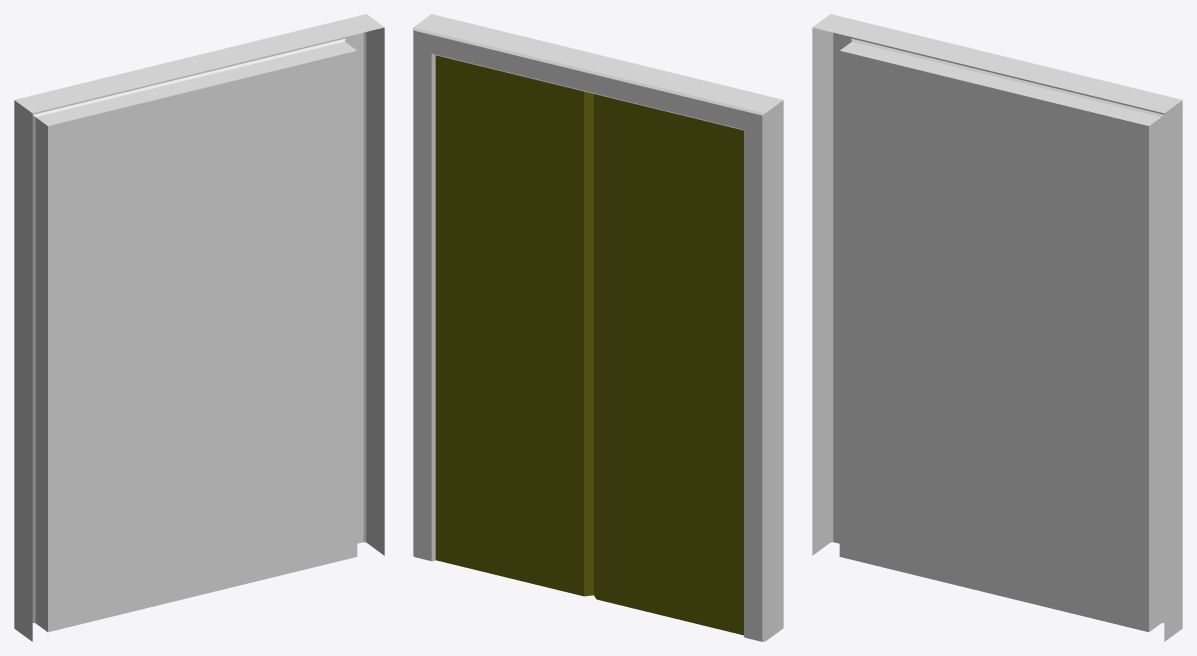
File: Larry_Map_Door_01.fbx
3 renders of one model, left to right at view 1: azimuth 30°, elevation 25°; view 2: azimuth 150°, elevation 25°; view 3: azimuth 330°, elevation 25°, orthographic.
Parts seen in each view (by area): view 1: Door_01; view 2: Door_01; view 3: Door_01.
Boxes of the visible parts, x1=… form: Door_01: x1=14, y1=14, x2=384, y2=641; Door_01: x1=413, y1=14, x2=783, y2=641; Door_01: x1=812, y1=14, x2=1182, y2=641.
Size of the model in its own units: 70 by 100 by 6.7.
